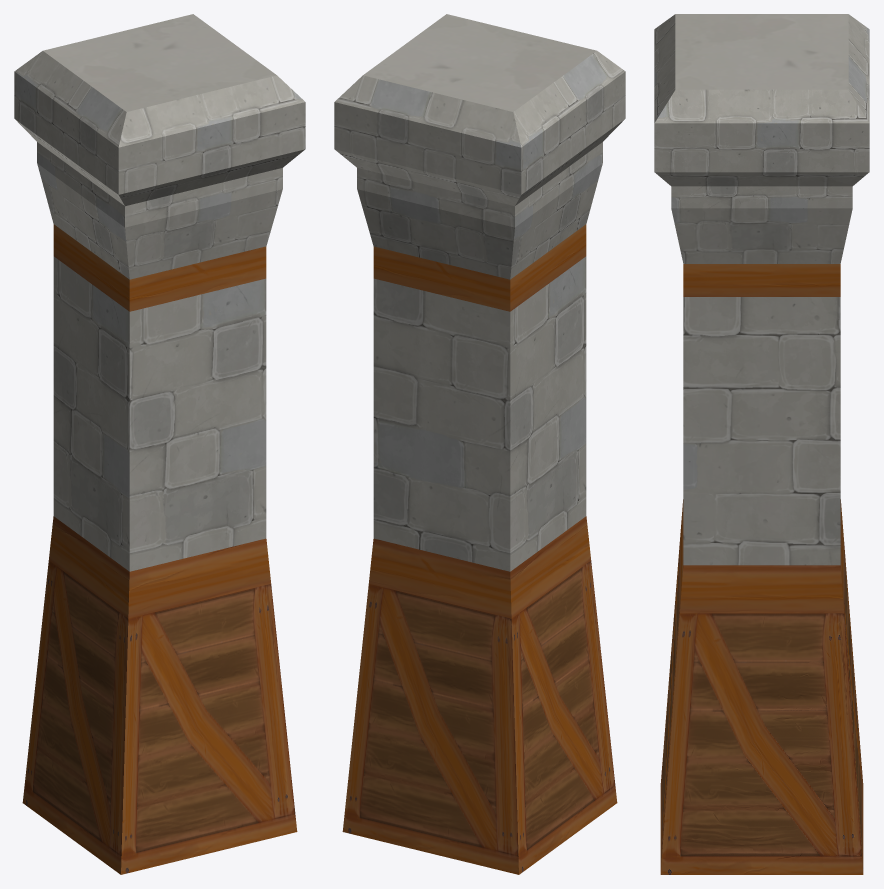
File: Chimney_A_01.fbx
3 views of the same model, side by side, from view 1: azimuth 30°, elevation 25°; view 2: azimuth 150°, elevation 25°; view 3: azimuth 270°, elevation 25° (orthographic). The views are drawn at different scales.
Parts seen in each view (by area): view 1: Chimney_A_01; view 2: Chimney_A_01; view 3: Chimney_A_01.
Boxes of the visible parts, box(x1,y1,x2,y2) form: Chimney_A_01: box(14, 14, 305, 874); Chimney_A_01: box(334, 14, 625, 874); Chimney_A_01: box(654, 14, 869, 874).
Bounding box in the file's own units: 202 × 779 × 195.
Materials: 2 (2 with a texture image).
